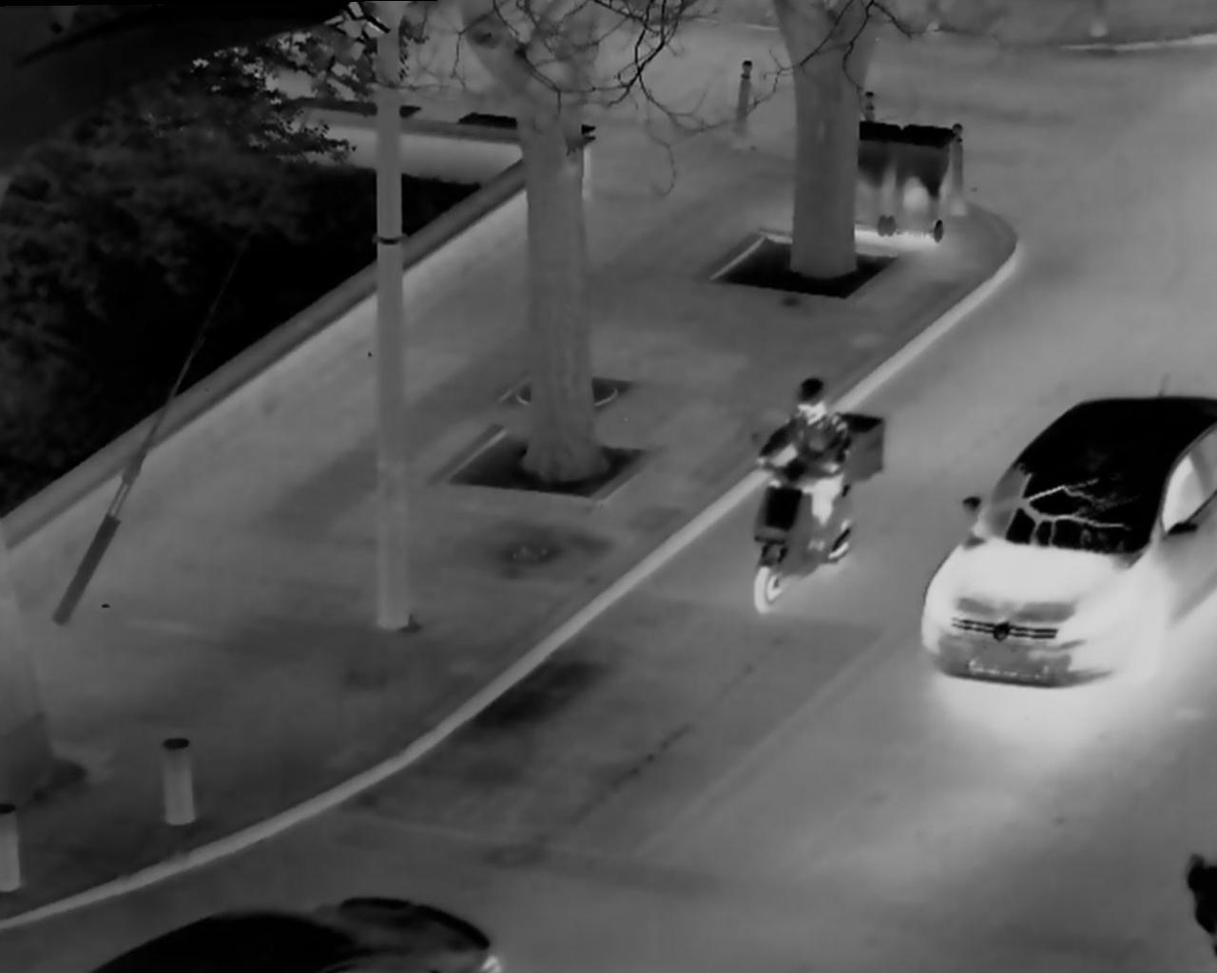person: (750, 361, 864, 580)
